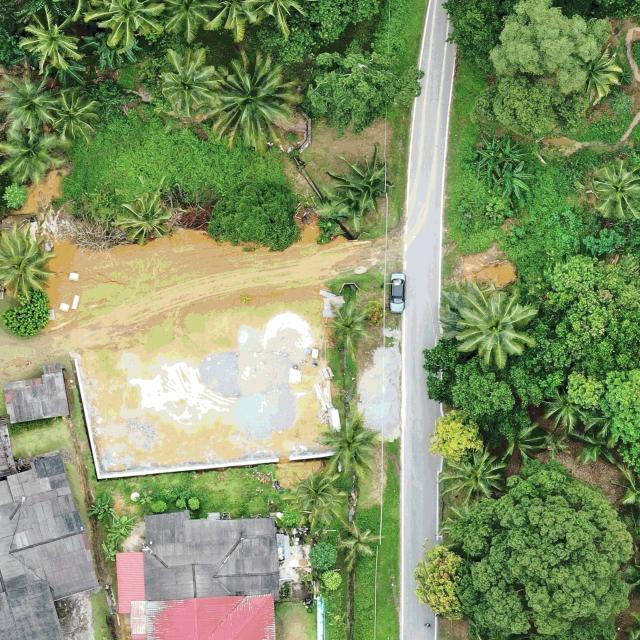Tree: (450, 456, 635, 640), (422, 323, 568, 444), (195, 46, 302, 156), (308, 46, 429, 140), (495, 0, 614, 94), (440, 277, 538, 373), (442, 0, 564, 72), (208, 177, 304, 252), (315, 142, 393, 234), (311, 408, 383, 486), (18, 7, 87, 84), (412, 542, 478, 620), (0, 224, 59, 300), (0, 121, 67, 186), (82, 0, 165, 52), (493, 74, 560, 138), (438, 445, 510, 504), (287, 466, 352, 528), (0, 68, 60, 134), (160, 45, 218, 110), (117, 192, 175, 246), (48, 86, 100, 144), (591, 158, 640, 218), (426, 409, 483, 458), (202, 0, 264, 43), (0, 288, 52, 339), (473, 136, 525, 186), (253, 0, 316, 41), (542, 386, 592, 436), (579, 48, 623, 101), (161, 0, 212, 42), (569, 426, 617, 464), (493, 161, 534, 200), (608, 470, 640, 518), (308, 541, 341, 569), (318, 568, 344, 591)
